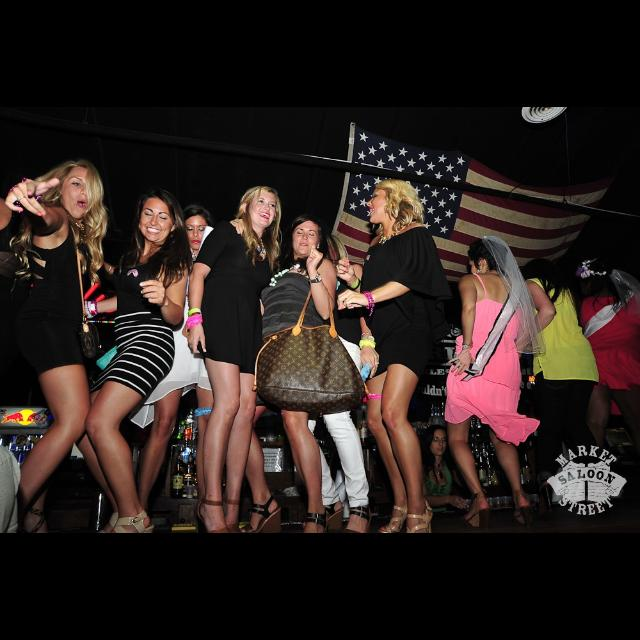head: (56, 164, 98, 220), (138, 190, 180, 244), (366, 181, 412, 225), (288, 214, 324, 258), (242, 187, 278, 229), (577, 257, 613, 297), (468, 240, 502, 278), (308, 235, 340, 275), (182, 208, 212, 250), (522, 257, 556, 285), (425, 424, 447, 456)
person: (441, 232, 557, 516), (511, 253, 603, 515)
